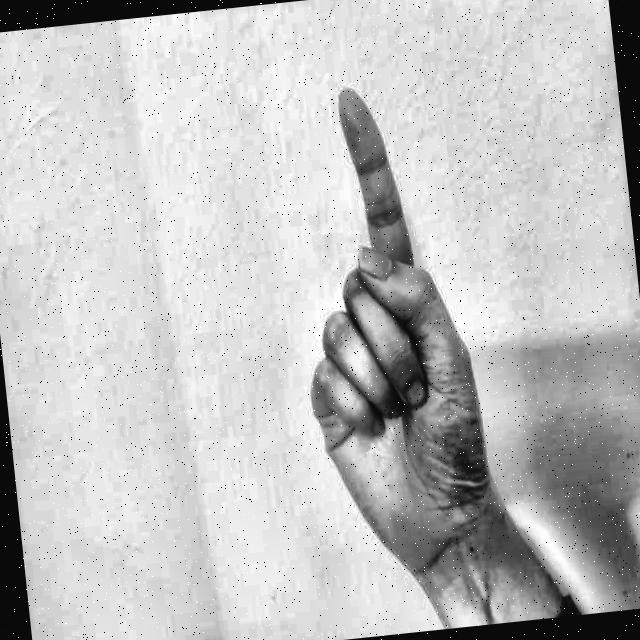U: (255, 44, 539, 580)
